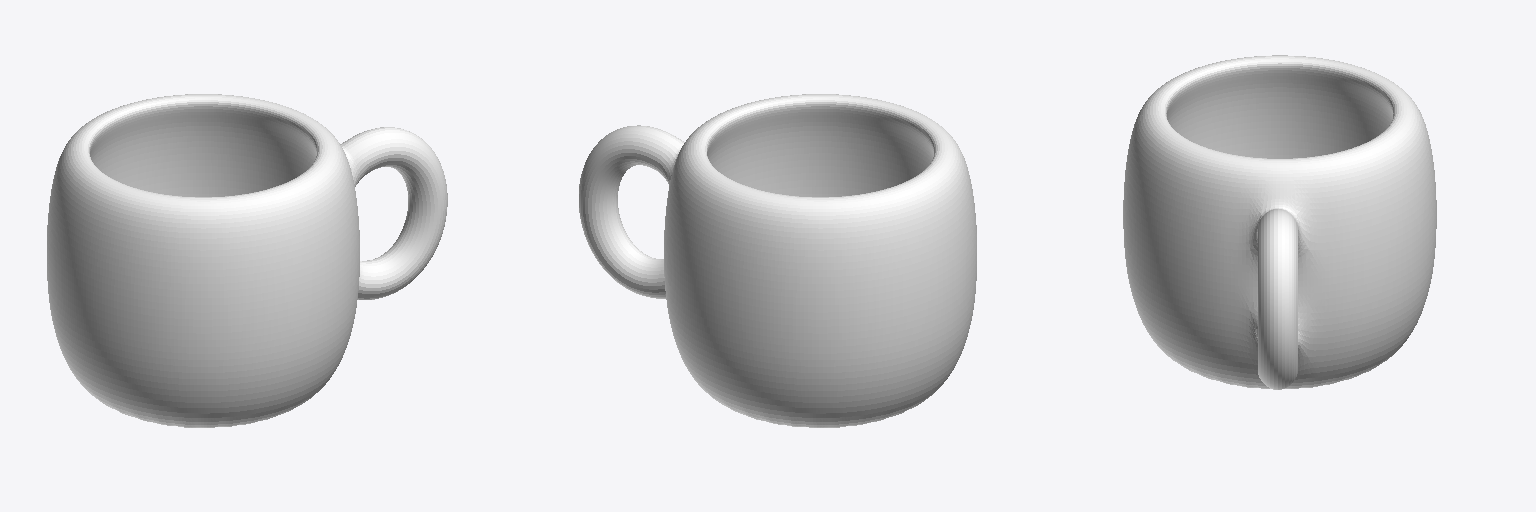
The model's file is cup.obj.
3 renders of one model, left to right at view 1: azimuth 30°, elevation 25°; view 2: azimuth 150°, elevation 25°; view 3: azimuth 270°, elevation 25°, orthographic.
Visible parts, largest first — view 1: NurbsPath_Mesh; view 2: NurbsPath_Mesh; view 3: NurbsPath_Mesh.
Part boxes in pixels (x1,y1,x2,y2): NurbsPath_Mesh: (47,94,447,427); NurbsPath_Mesh: (579,94,976,427); NurbsPath_Mesh: (1123,55,1436,389).
Bounding box in the file's own units: 2.89 × 1.79 × 2.08.